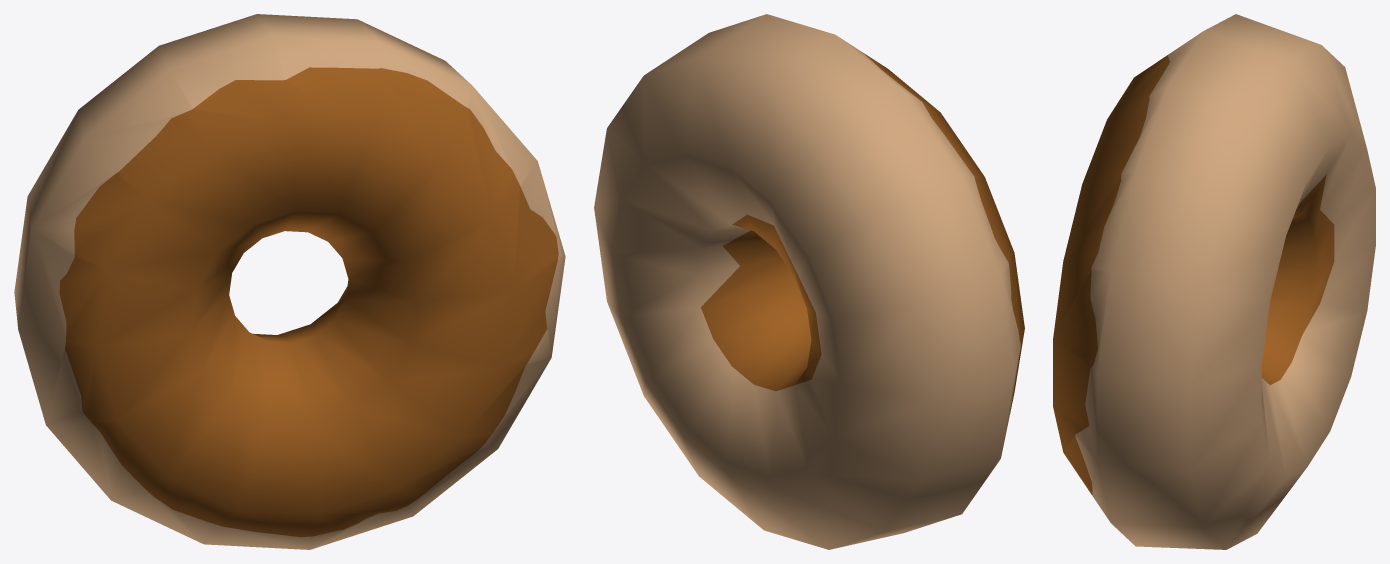
File: donut.fbx
The picture shows the model from 3 angles, left to right: view 1: azimuth 30°, elevation 25°; view 2: azimuth 150°, elevation 25°; view 3: azimuth 270°, elevation 25°; orthographic projection. The views are drawn at different scales.
Visible parts, largest first — view 1: doughnut5_1_1; view 2: doughnut5_1_1; view 3: doughnut5_1_1.
Boxes of the visible parts, x1,y1,x2,y2 form: doughnut5_1_1: (14,14,565,549); doughnut5_1_1: (594,14,1024,549); doughnut5_1_1: (1053,14,1375,549).
Size of the model in its own units: 31 by 31.68 by 18.93.
